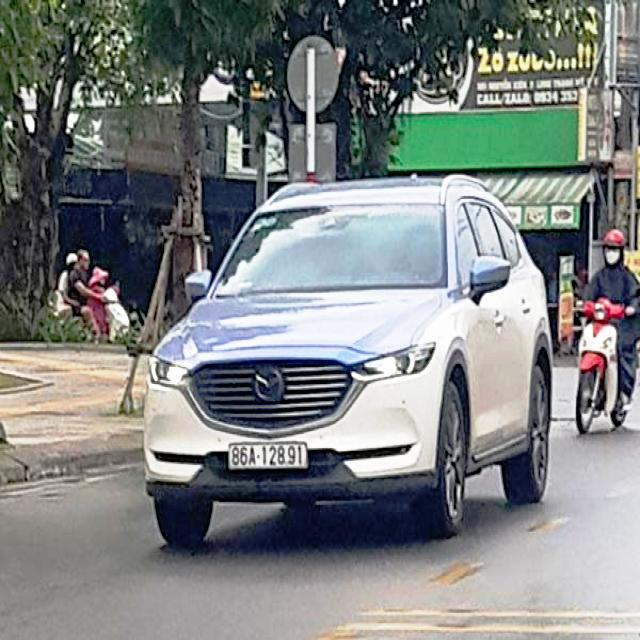license_plate: (229, 439, 310, 473)
